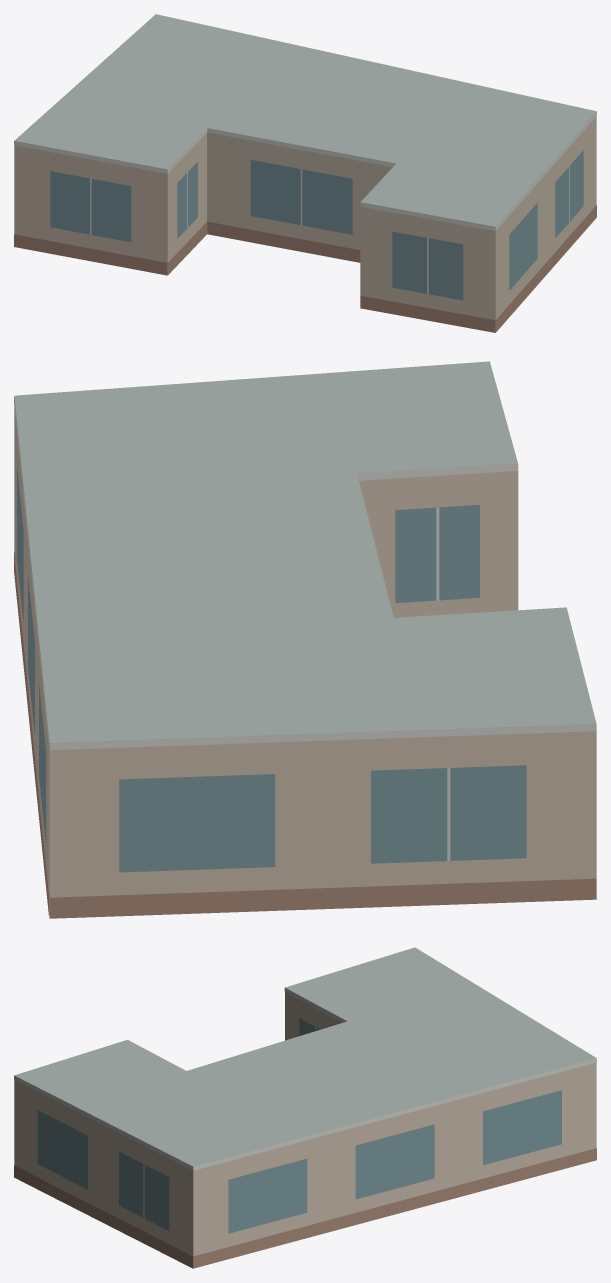
File: survey-upis-32728012.glb
3 views of the same model, one above another, from view 1: azimuth 30°, elevation 25°; view 2: azimuth 150°, elevation 25°; view 3: azimuth 270°, elevation 25° (orthographic). The views are drawn at different scales.
Parts seen in each view (by area): view 1: survey-upis-32728012.tmp; view 2: survey-upis-32728012.tmp; view 3: survey-upis-32728012.tmp.
Part boxes in pixels (<box>): survey-upis-32728012.tmp: <box>14,14,596,332</box>; survey-upis-32728012.tmp: <box>14,361,596,918</box>; survey-upis-32728012.tmp: <box>14,947,596,1268</box>.
Size of the model in its own units: 14.07 by 3.05 by 15.79.
